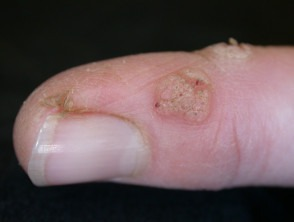Warts: (153, 62, 218, 126)
